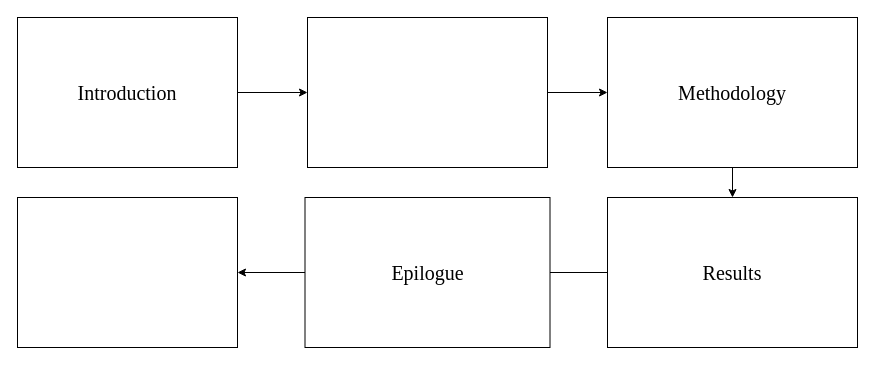
Image size: 883x365. Some labels were removed from this diagram. The centre of each missing label's shape, as x and y in pixels:
"Literature Review" belongs at [427,92].
"References" belongs at [127,272].
